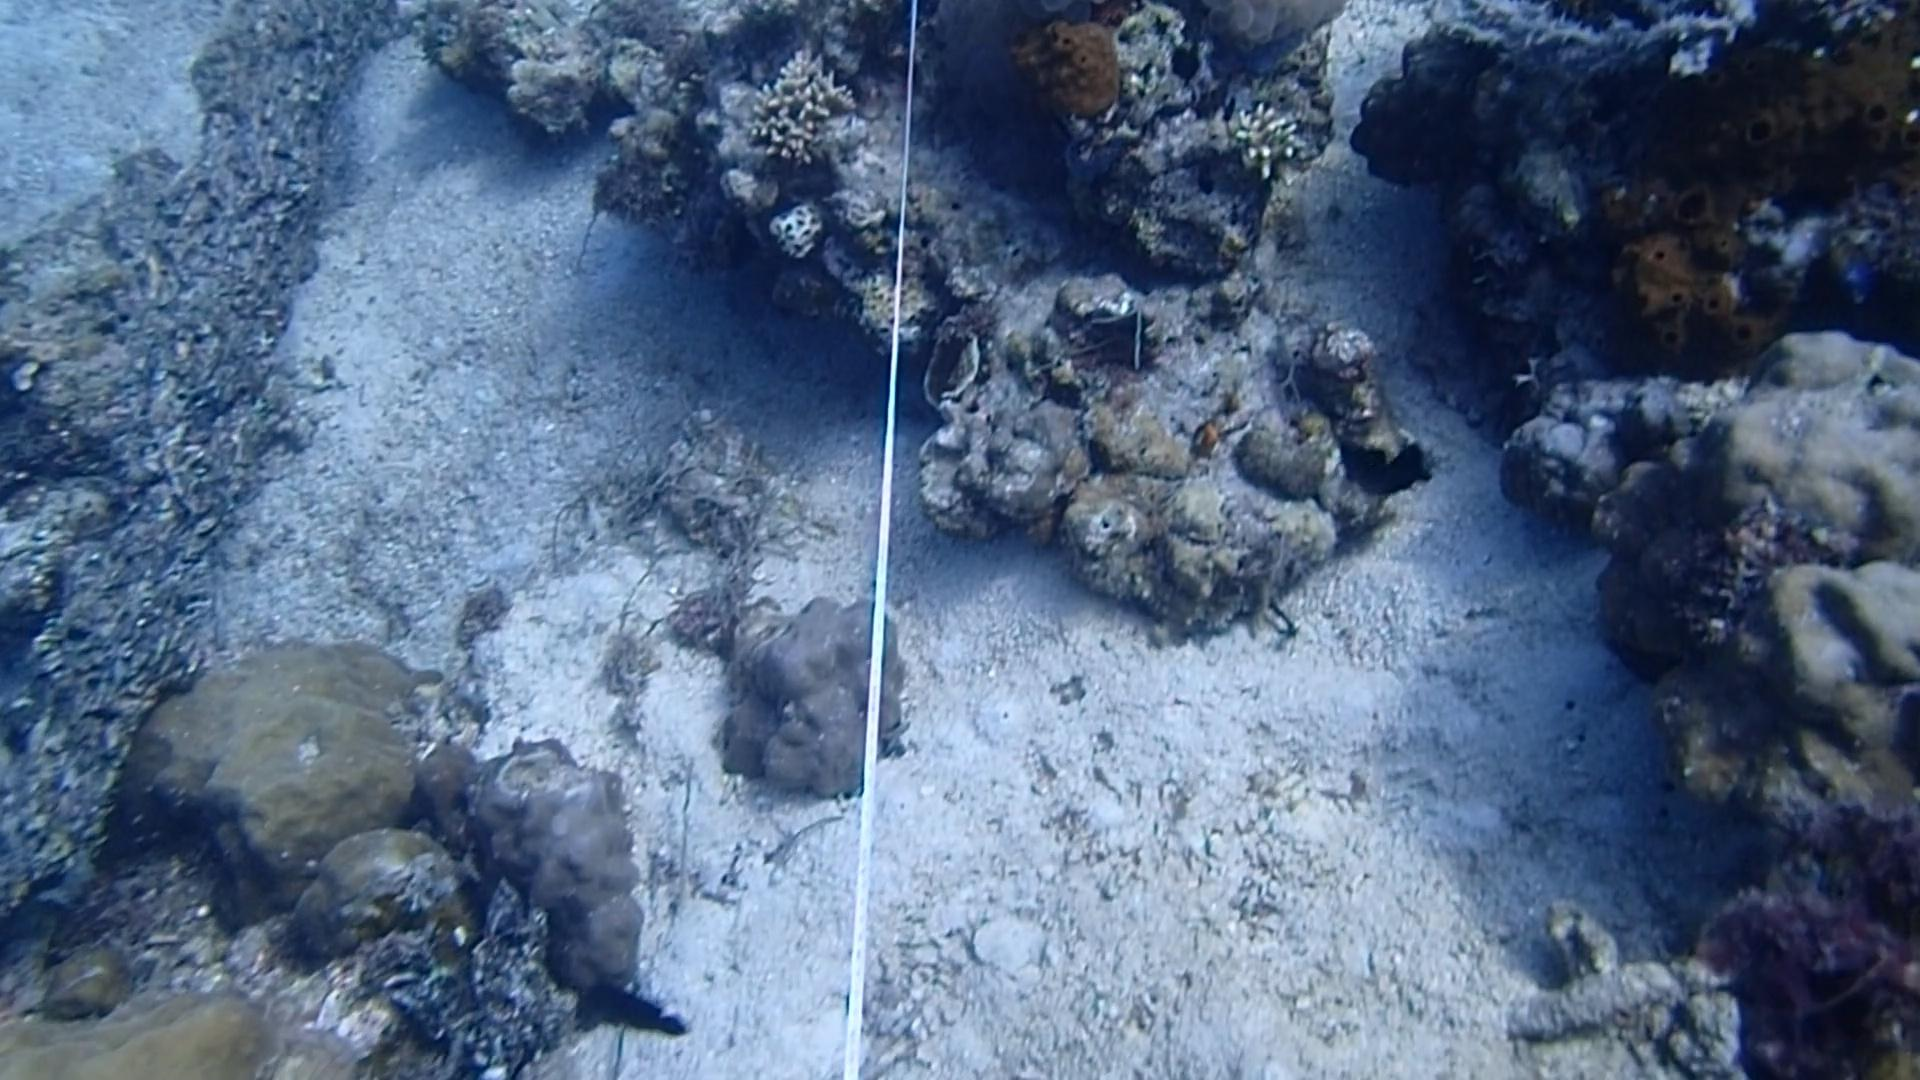Big Dark Blue Fish: (1316, 423, 1455, 512)
Dark Fish: (587, 967, 704, 1046)
